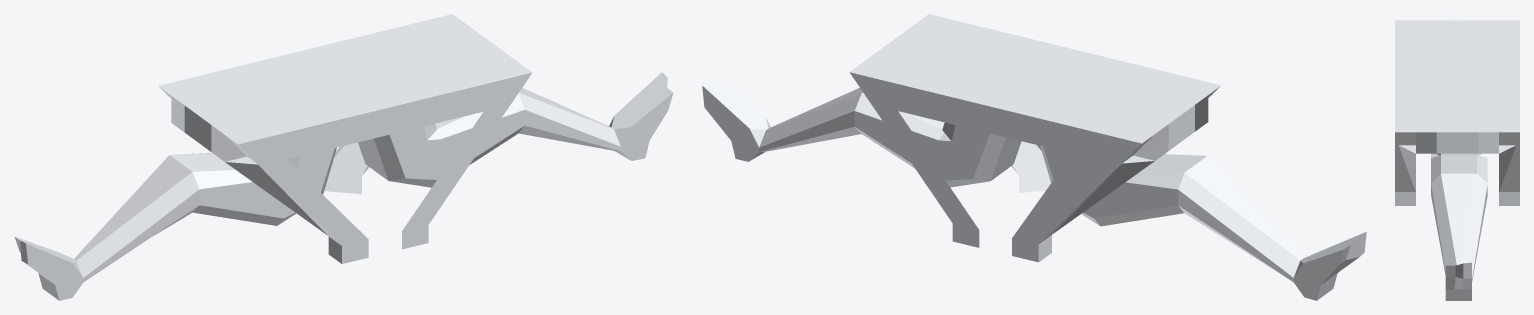
The model's file is fgr_fur_legtable.fbx.
3 views of the same model, side by side, from view 1: azimuth 30°, elevation 25°; view 2: azimuth 150°, elevation 25°; view 3: azimuth 270°, elevation 25° (orthographic). The views are drawn at different scales.
Parts seen in each view (by area): view 1: fgr_fur_leglador; view 2: fgr_fur_leglador; view 3: fgr_fur_leglador.
Boxes of the visible parts, x1,y1,x2,y2 form: fgr_fur_leglador: (14, 14, 673, 300); fgr_fur_leglador: (702, 14, 1366, 300); fgr_fur_leglador: (1395, 14, 1519, 300).
Size of the model in its own units: 3766 by 800 by 800.
Materials: 1 (1 with a texture image).
